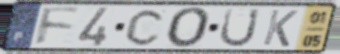4: (75, 5, 110, 49)
C: (123, 7, 168, 47)
F: (35, 5, 82, 48)
K: (260, 9, 300, 48)
O: (165, 6, 213, 50)
U: (217, 7, 263, 49)
